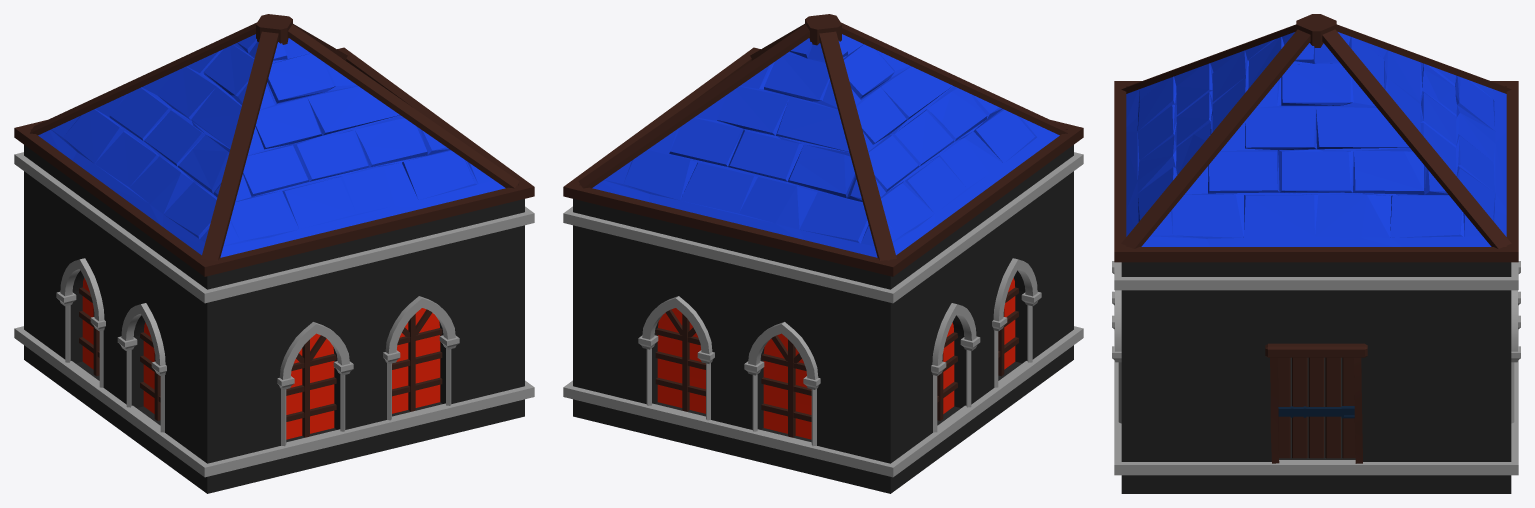
File: roof_building_2.FBX
3 renders of one model, left to right at view 1: azimuth 30°, elevation 25°; view 2: azimuth 150°, elevation 25°; view 3: azimuth 270°, elevation 25°, orthographic. The views are drawn at different scales.
Parts seen in each view (by area): view 1: roof_building_2; view 2: roof_building_2; view 3: roof_building_2.
Part boxes in pixels (bbox=[...]): roof_building_2: bbox=[14, 14, 534, 493]; roof_building_2: bbox=[563, 14, 1083, 493]; roof_building_2: bbox=[1112, 14, 1520, 493].
Size of the model in its own units: 525 by 551 by 525.
